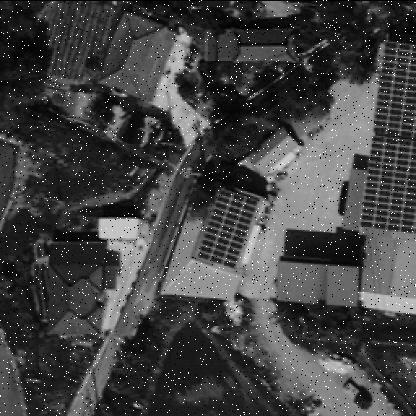solar-pv-panel: (359, 40, 416, 232), (196, 188, 259, 267)
